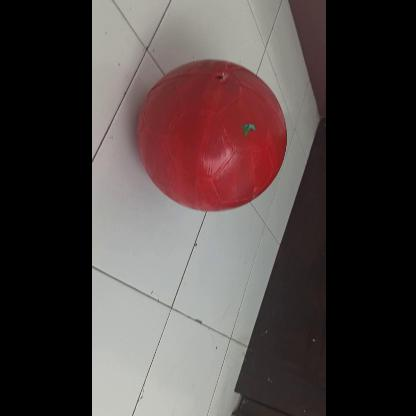red_ball: (134, 58, 288, 212)
